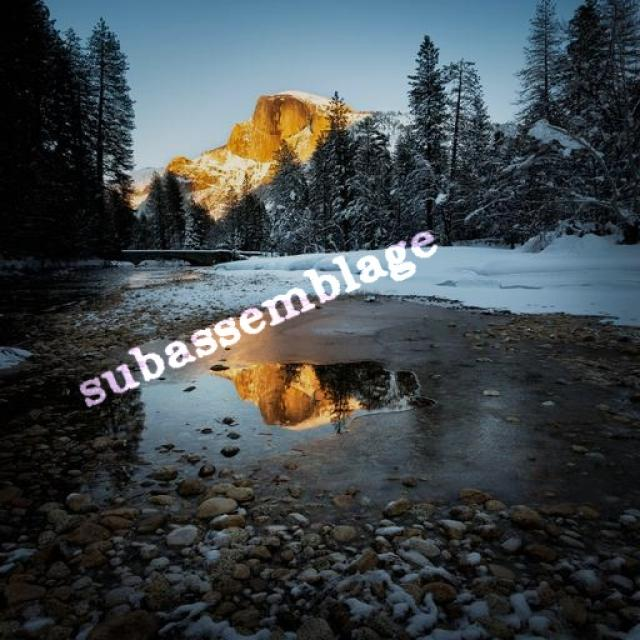watermark: (74, 213, 441, 415)
